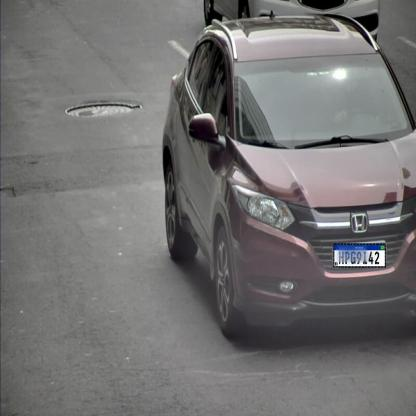PlacaM: (333, 243, 386, 268)
